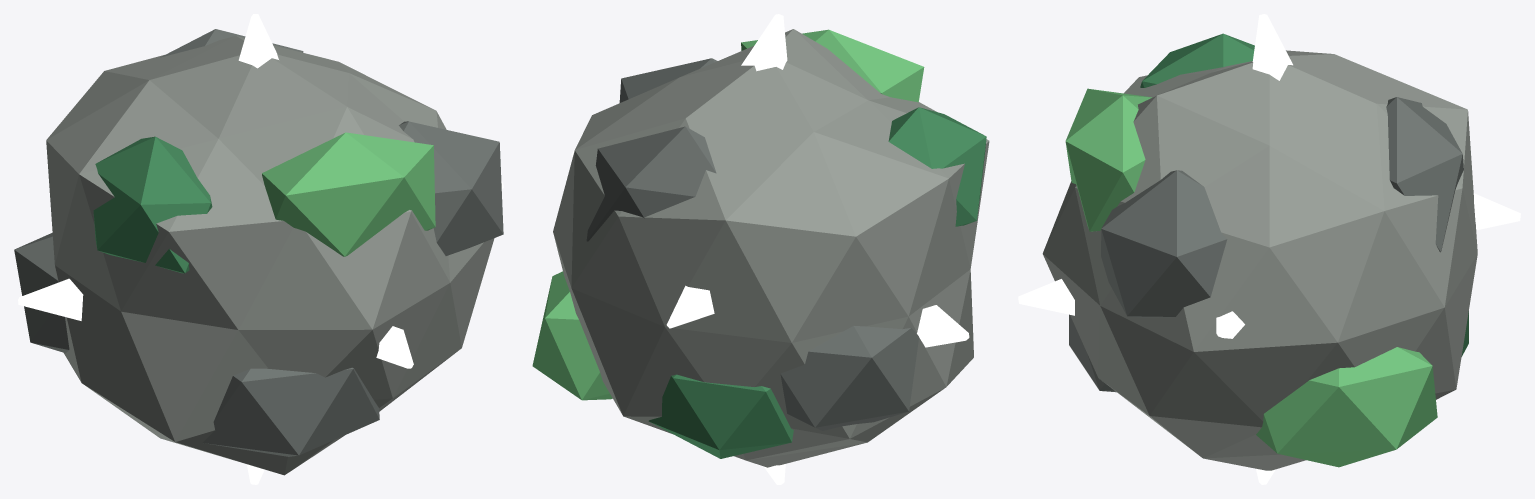
The model's file is MossbackBoulder.fbx.
3 views of the same model, side by side, from view 1: azimuth 30°, elevation 25°; view 2: azimuth 150°, elevation 25°; view 3: azimuth 270°, elevation 25° (orthographic).
Parts seen in each view (by area): view 1: MossbackBoulder; view 2: MossbackBoulder; view 3: MossbackBoulder.
Boxes of the visible parts, bbox=[...] form: MossbackBoulder: bbox=[14, 14, 503, 484]; MossbackBoulder: bbox=[532, 14, 989, 484]; MossbackBoulder: bbox=[1018, 14, 1520, 484].
Size of the model in its own units: 6.59 by 6.72 by 6.51.
